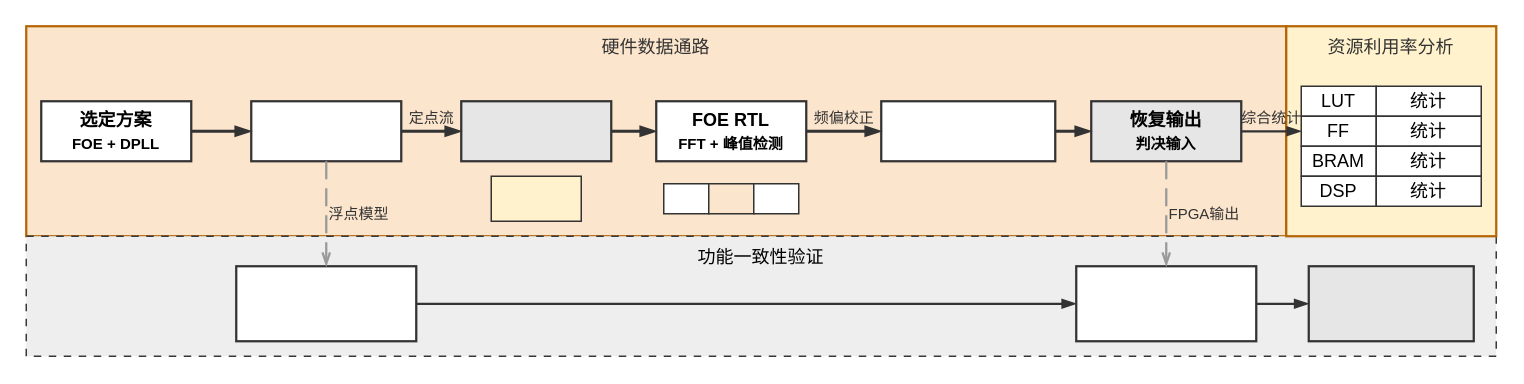
Image size: 1524x384. Some labels were removed from this diagram. Here are the shapes that lost their labels. From the top down, the centre of each, then its label:
point 325,130: 定点量化 字长分析
point 535,130: RTL 模块设计
point 967,130: DPLL RTL 鉴相 + 滤波 + NCO
point 535,198: clk
point 325,303: 浮点参考 算法仿真
point 1165,303: 结果对比 误差 / 一致性
point 1390,303: 验证结论 功能一致性
